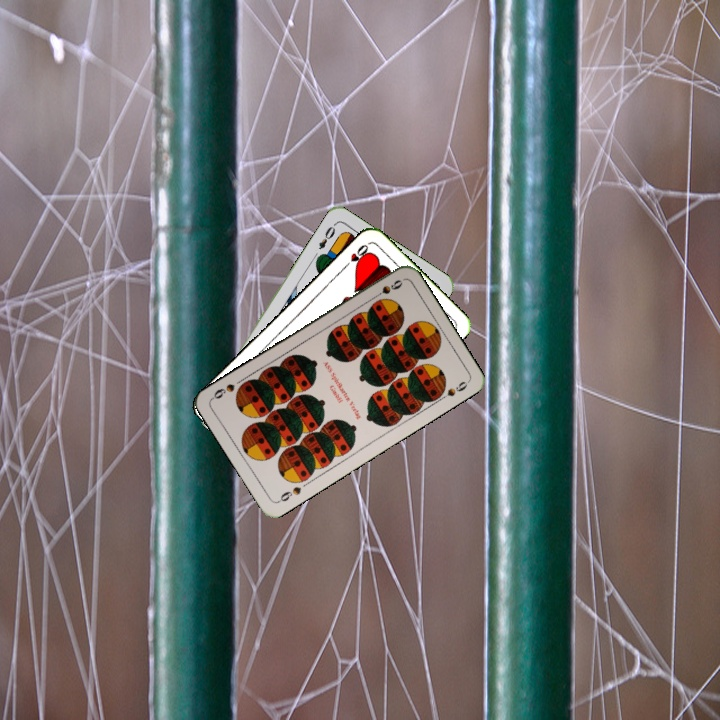EO: (315, 219, 338, 252)
HO: (339, 240, 371, 272)
S9: (368, 275, 405, 302), (274, 482, 304, 505)
